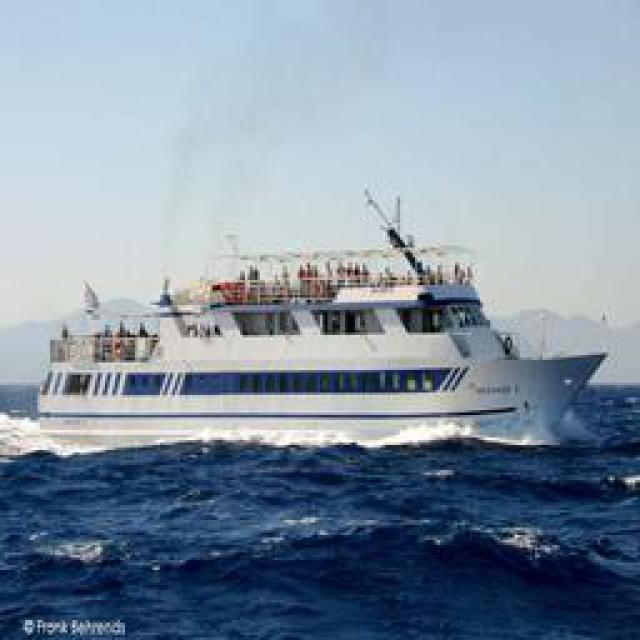Ship: (35, 244, 618, 449)
